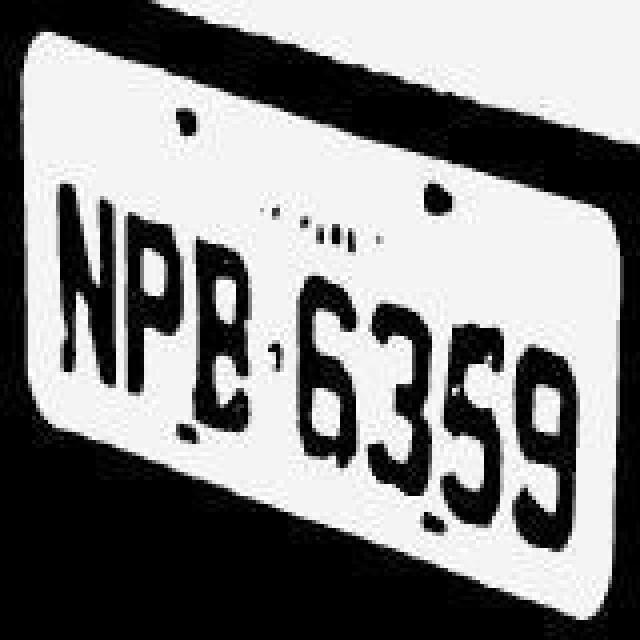3: (364, 248, 436, 504)
5: (440, 268, 504, 532)
6: (286, 262, 362, 498)
9: (508, 294, 580, 562)
B: (188, 232, 260, 440)
N: (50, 164, 118, 404)
P: (118, 202, 186, 422)
